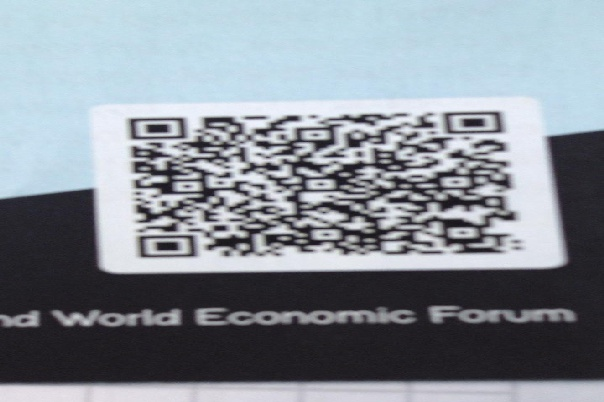code: (127, 111, 523, 259)
